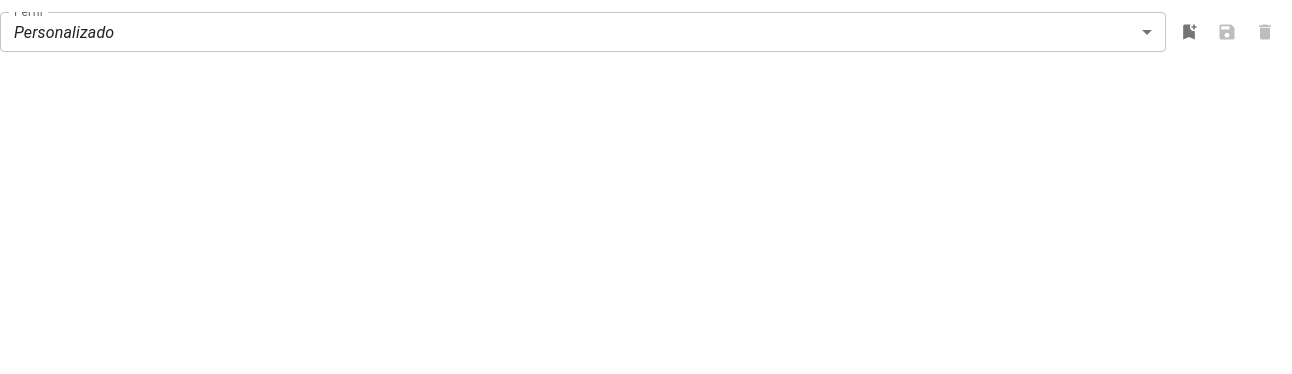
Test: CareProfilesPanel › groups recommended and saved profiles in the dropdown
Press the mouse on the dropdown: [64, 32] box x1=14 y1=22 x2=114 y2=42
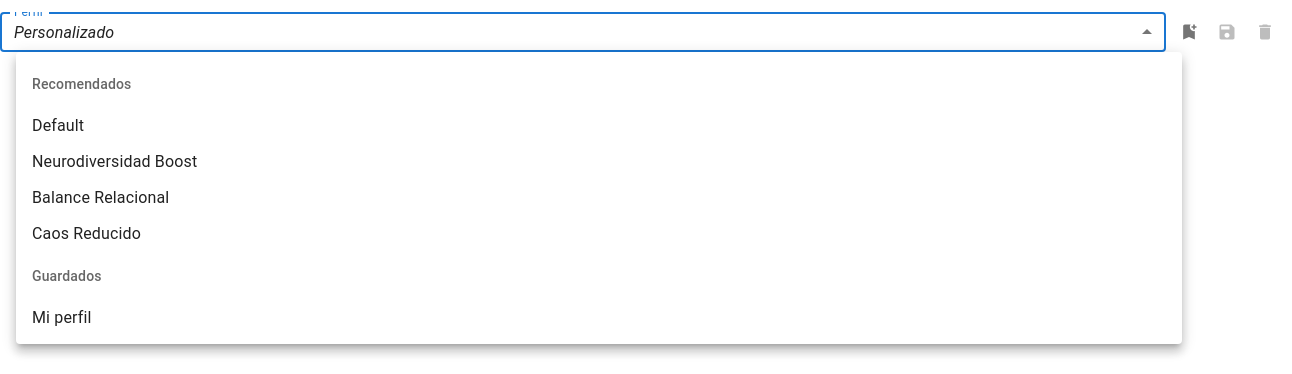
Expected: the option "Recomendados" is shown, x1=16 y1=60 x2=1182 y2=108
Expected: the option "Guardados" is shown, x1=16 y1=252 x2=1182 y2=300
Expected: the option with test id "profile-option-builtin:default" is shown, x1=32 y1=116 x2=84 y2=135
